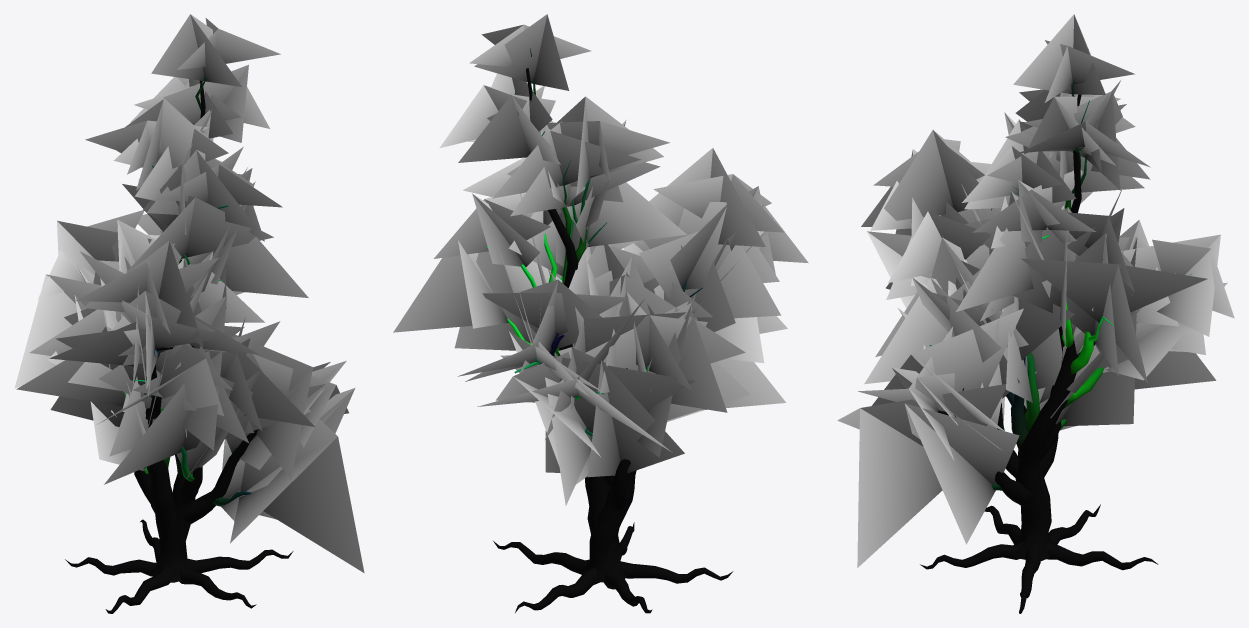
The model's file is old_01.fbx.
3 views of the same model, side by side, from view 1: azimuth 30°, elevation 25°; view 2: azimuth 150°, elevation 25°; view 3: azimuth 270°, elevation 25° (orthographic). The views are drawn at different scales.
Visible parts, largest first — view 1: old_01_LOD0; view 2: old_01_LOD0; view 3: old_01_LOD0.
Boxes of the visible parts, <box> form: old_01_LOD0: <box>14,14,364,613</box>; old_01_LOD0: <box>393,14,808,613</box>; old_01_LOD0: <box>837,14,1234,613</box>.
Size of what is drawn, in the model's own units: 1466 by 2619 by 1665.
